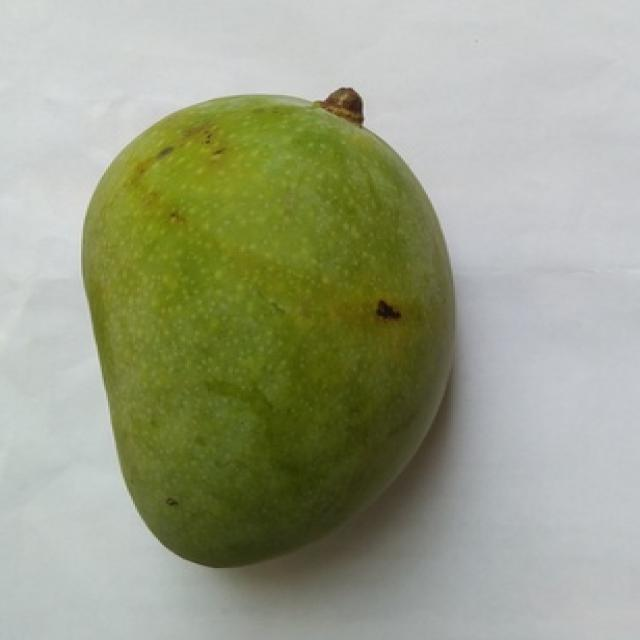Mango: (83, 90, 453, 565)
